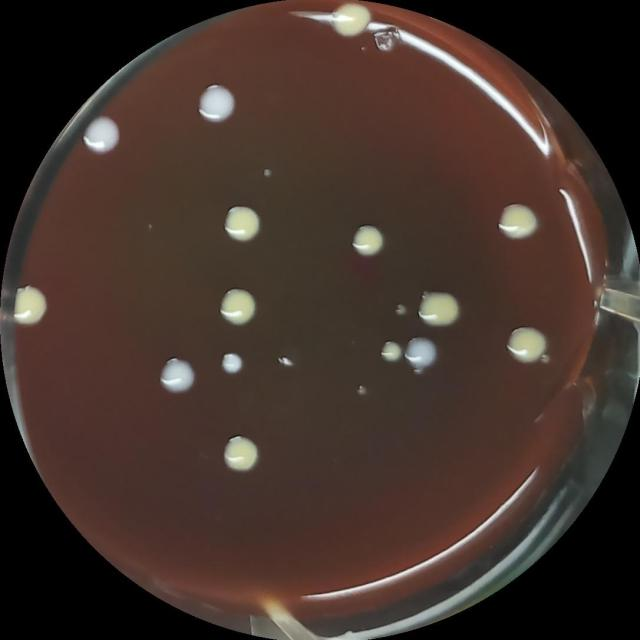Staphylococcus: (414, 284, 464, 334), (503, 323, 553, 368), (193, 80, 241, 126), (5, 285, 56, 328), (493, 199, 541, 243), (326, 0, 375, 43), (217, 433, 264, 476), (215, 286, 261, 329), (220, 203, 265, 246), (155, 355, 202, 396), (78, 116, 125, 156), (401, 334, 444, 374), (348, 220, 386, 260), (216, 351, 248, 378), (377, 338, 406, 366)
